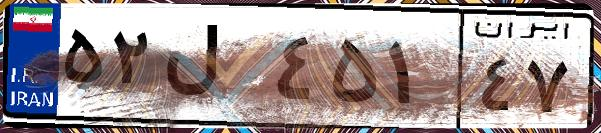1: (385, 28, 445, 110)
2: (110, 28, 158, 98)
4: (270, 28, 330, 110), (475, 38, 525, 113)
5: (330, 28, 385, 110), (57, 26, 110, 100)
7: (525, 38, 570, 115)
ل: (158, 20, 270, 120)
